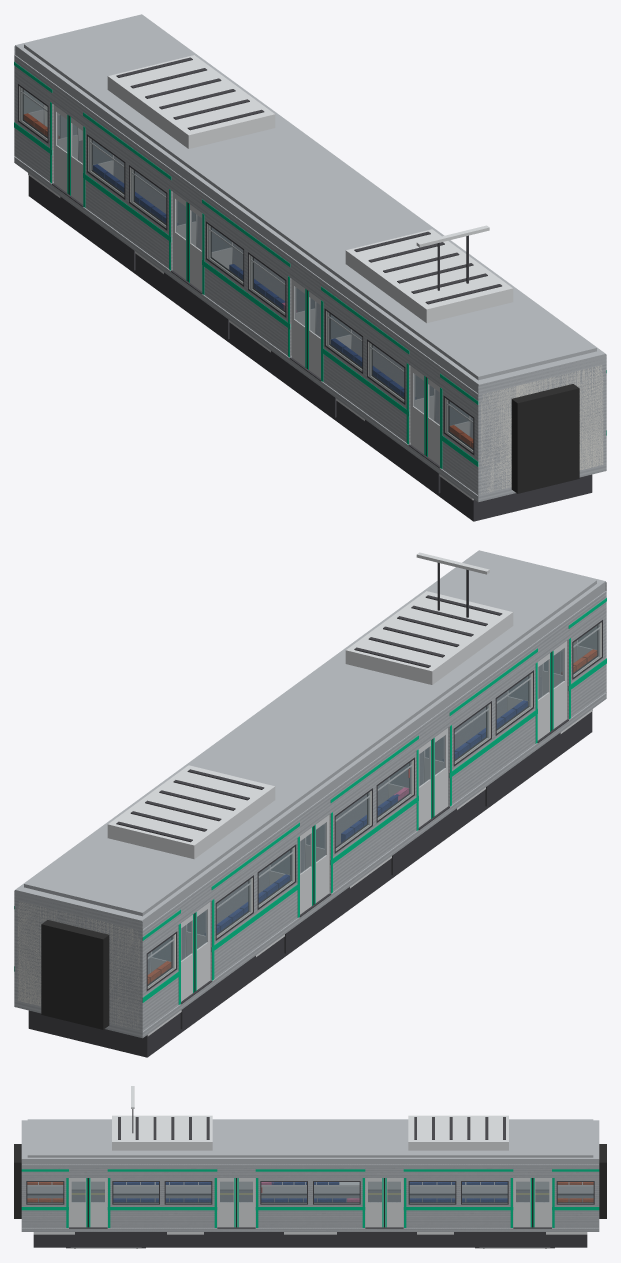
Rendered from train_car_lod.glb.
3 views of the same model, one above another, from view 1: azimuth 30°, elevation 25°; view 2: azimuth 150°, elevation 25°; view 3: azimuth 270°, elevation 25° (orthographic). The views are drawn at different scales.
Parts seen in each view (by area): view 1: CarBody, DoorL0b, DoorL2b, DoorL1b, DoorL3b, DoorL2a, DoorL3a, DoorL1a, DoorL0a, Pantograph; view 2: CarBody, DoorL3a, DoorL1a, DoorL2a, DoorL0a, DoorL0b, DoorL1b, DoorL2b, DoorL3b, Pantograph; view 3: CarBody, DoorR1a, DoorR2a, DoorR0a, DoorR3a, DoorR1b, DoorR2b, DoorR0b, DoorR3b.
Part boxes in pixels (<box>): CarBody: <box>14,14,606,521</box>; DoorL0b: <box>410,366,427,456</box>; DoorL2b: <box>172,192,189,282</box>; DoorL1b: <box>291,279,308,369</box>; DoorL3b: <box>54,105,70,195</box>; DoorL2a: <box>186,202,202,291</box>; DoorL3a: <box>67,115,83,204</box>; DoorL1a: <box>305,289,320,378</box>; DoorL0a: <box>424,376,439,465</box>; Pantograph: <box>416,225,489,290</box>; CarBody: <box>14,550,606,1057</box>; DoorL3a: <box>193,902,210,992</box>; DoorL1a: <box>431,728,448,818</box>; DoorL2a: <box>312,815,329,905</box>; DoorL0a: <box>550,641,566,731</box>; DoorL0b: <box>537,651,553,740</box>; DoorL1b: <box>418,738,434,827</box>; DoorL2b: <box>300,825,315,914</box>; DoorL3b: <box>181,912,196,1001</box>; Pantograph: <box>416,552,489,617</box>; CarBody: <box>14,1115,606,1248</box>; DoorR1a: <box>217,1178,238,1227</box>; DoorR2a: <box>365,1178,386,1227</box>; DoorR0a: <box>69,1178,90,1227</box>; DoorR3a: <box>513,1178,534,1227</box>; DoorR1b: <box>234,1178,255,1227</box>; DoorR2b: <box>382,1178,403,1227</box>; DoorR0b: <box>86,1178,107,1227</box>; DoorR3b: <box>530,1178,551,1227</box>.
Bounding box in the file's own units: 3.14 × 5.29 × 20.02.
Materials: 27 (8 with a texture image).
